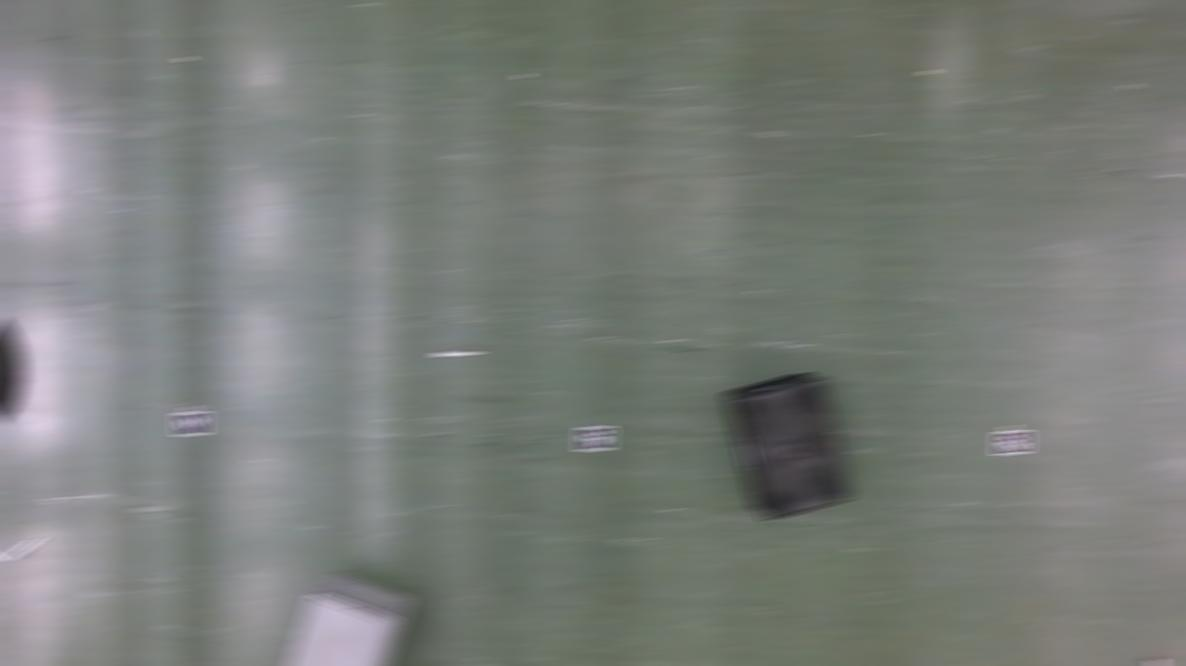probes: (0, 534, 43, 561), (431, 348, 484, 359), (1149, 657, 1166, 666)
rako: (724, 369, 852, 518), (274, 570, 414, 666)
